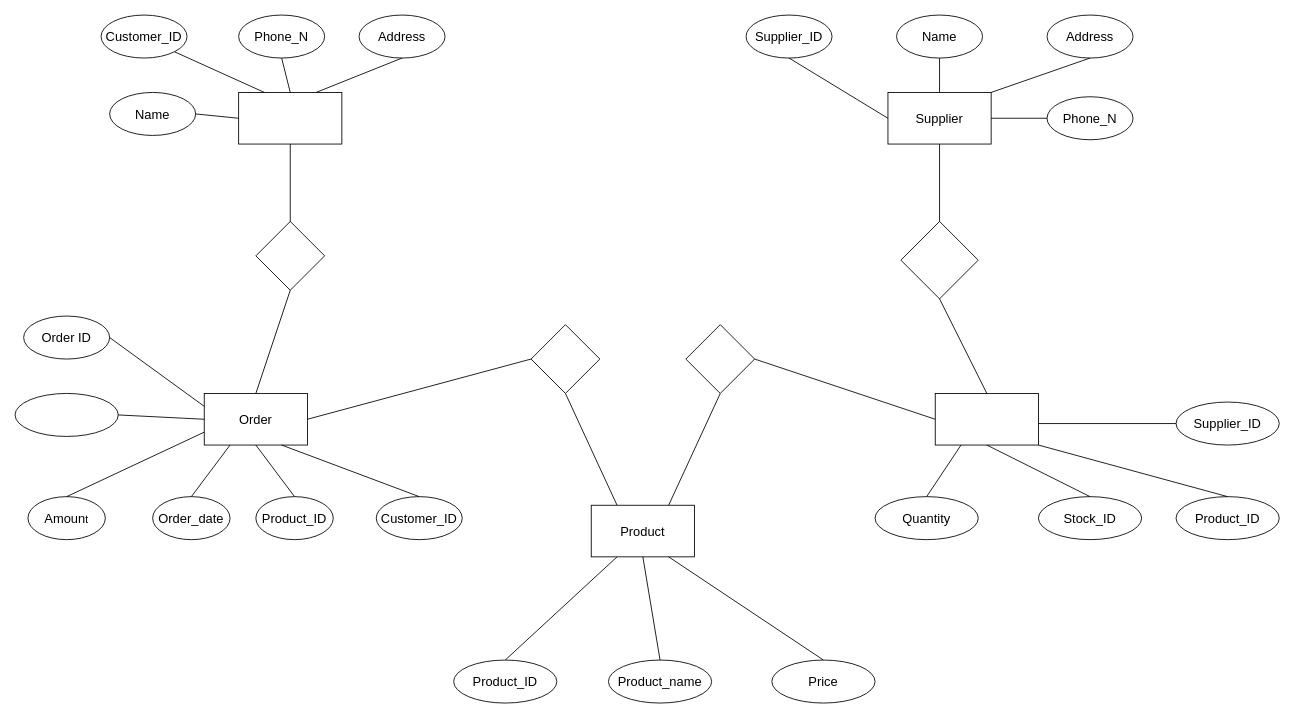
Image size: 1294x718. Some labels were removed from this diagram. Here are the shapes that lost their labels. From the top down, the centre of each, then its label:
At pixel 290 118: "Customer".
At pixel 290 255: "Places".
At pixel 939 260: "Supplied by".
At pixel 565 358: "Contains".
At pixel 720 358: "Stored in".
At pixel 66 414: "Customer_name".
At pixel 986 419: "Stock".
